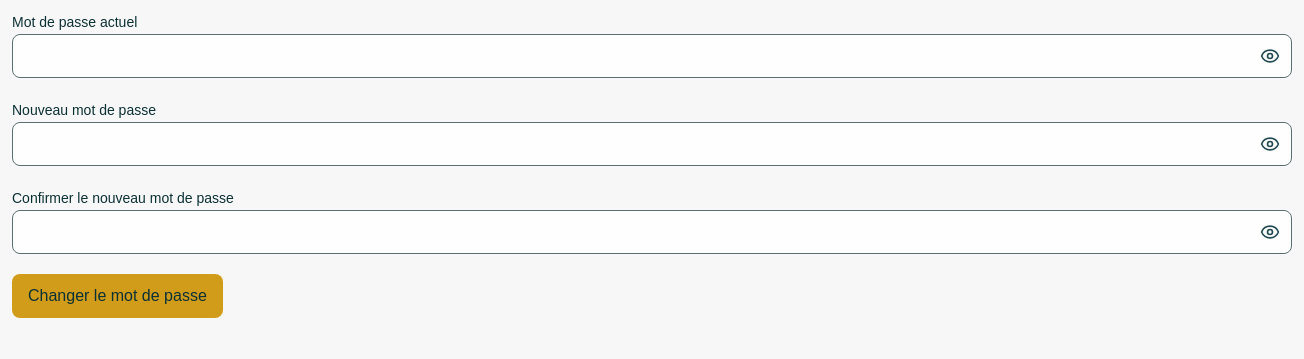
Test case: ChangePasswordForm › refuse une confirmation différente sans appeler l'API
Type "Ancien123!" into the password field labelled "Mot de passe actuel" at (652, 56), box x1=12 y1=34 x2=1292 y2=78
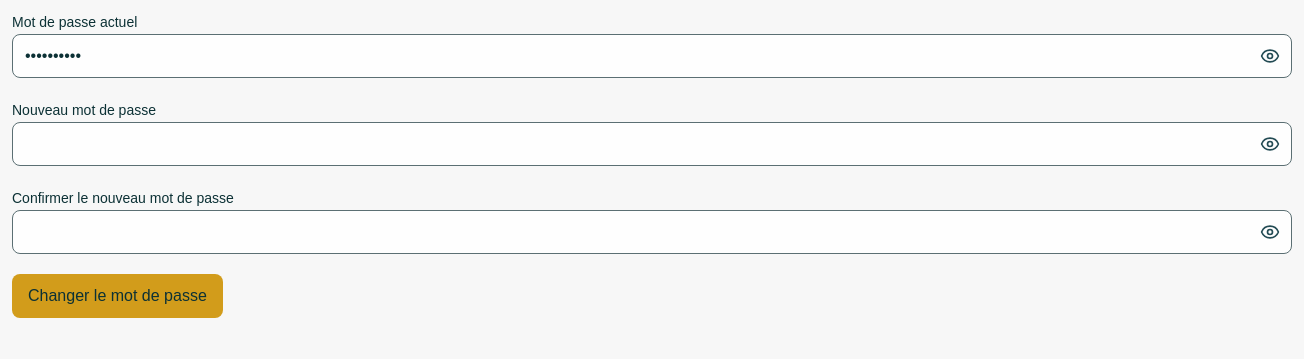
Type "NouveauMotDePasse1" into the password field labelled "Nouveau mot de passe" at (652, 144), box x1=12 y1=122 x2=1292 y2=166
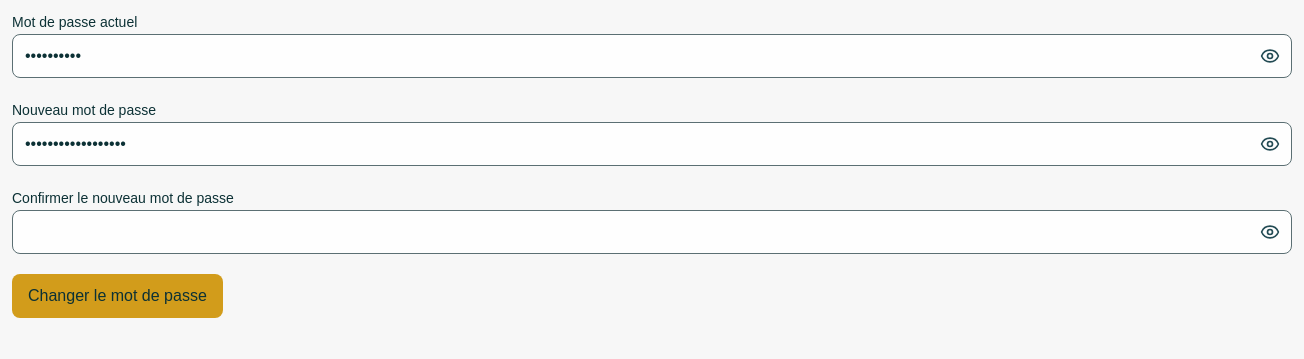
Type "AutreMotDePasse1" into the password field labelled "Confirmer le nouveau mot de passe" at (652, 232), box x1=12 y1=210 x2=1292 y2=254
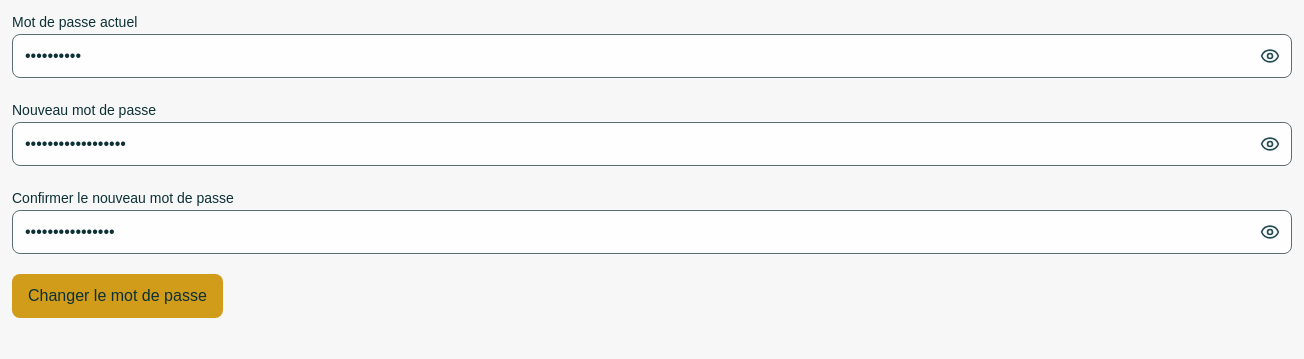
Click the button "Changer le mot de passe" at (117, 296), box x1=12 y1=274 x2=223 y2=318
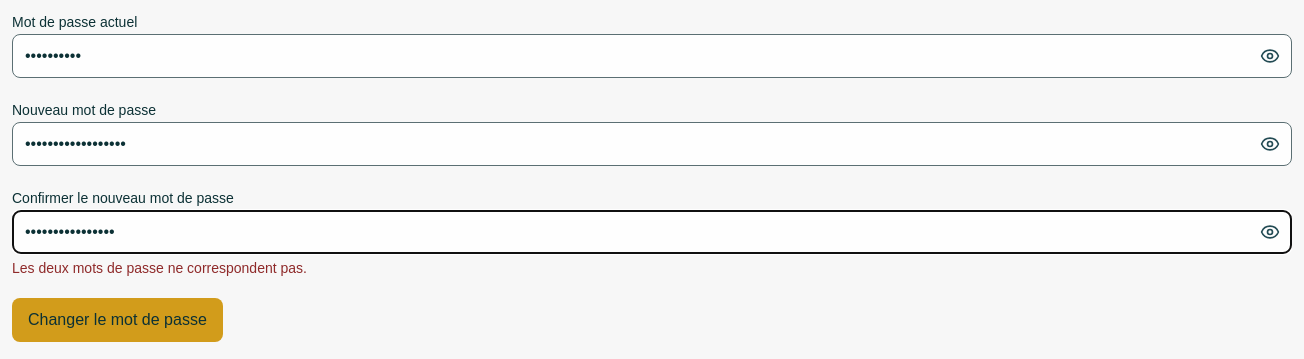
Now the text "Les deux mots de passe ne correspondent pas." is shown, box x1=12 y1=260 x2=307 y2=276
